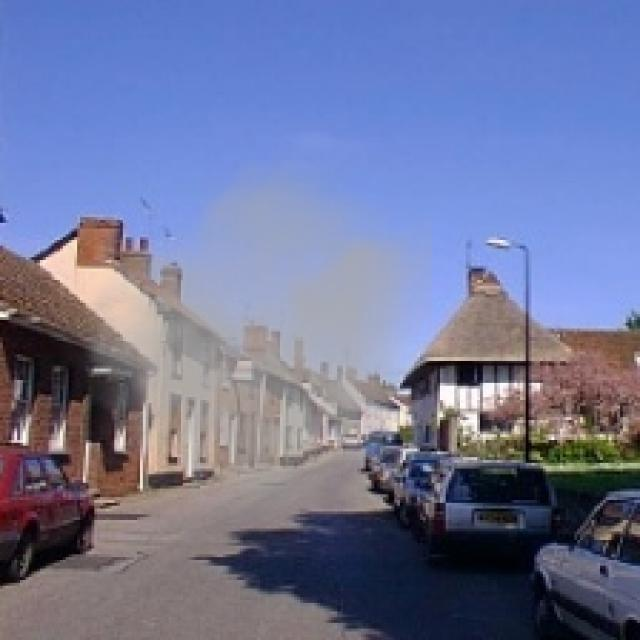smoke: (43, 146, 431, 534)
